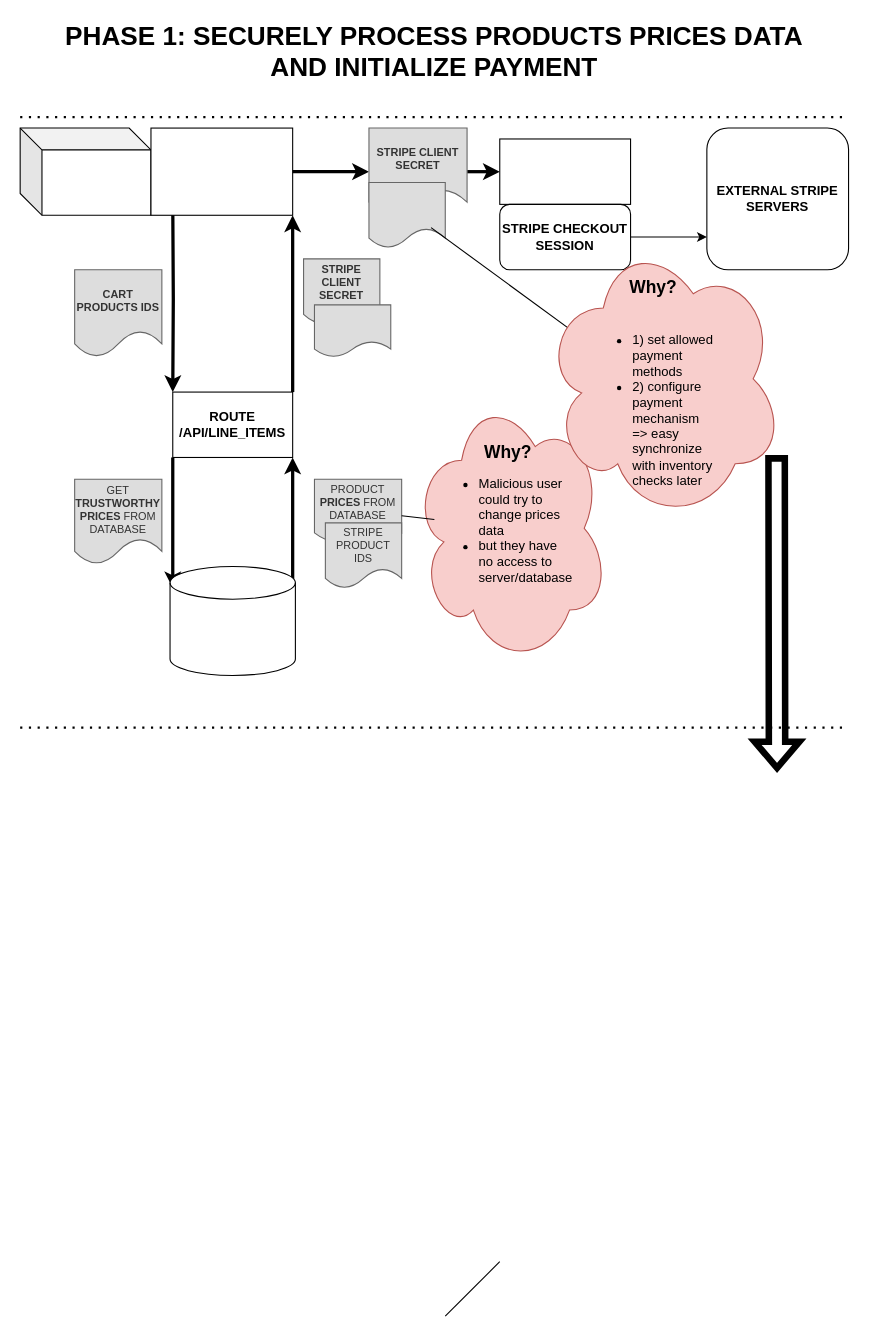
Some shapes in this 869 by 1336 pixel diagram are drawn without their labels. The shapes that lost their labels are listed below. From the top down, each one's centre as x and y in pixels, then its label:
At point (85, 171): "NEXT APP".
At point (221, 171): "PAYMENT PAGE".
At point (565, 171): "STRIPE EMBEDDED FORM".
At point (406, 214): "session configuration data".
At point (352, 330): "LINE ITEMS (PRODUCTS)".
At point (232, 620): "DATABASE (SANITY, NOSQL)".
